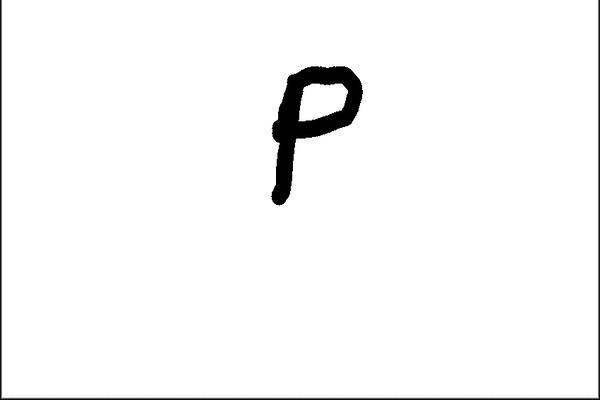P: (257, 51, 372, 210)
